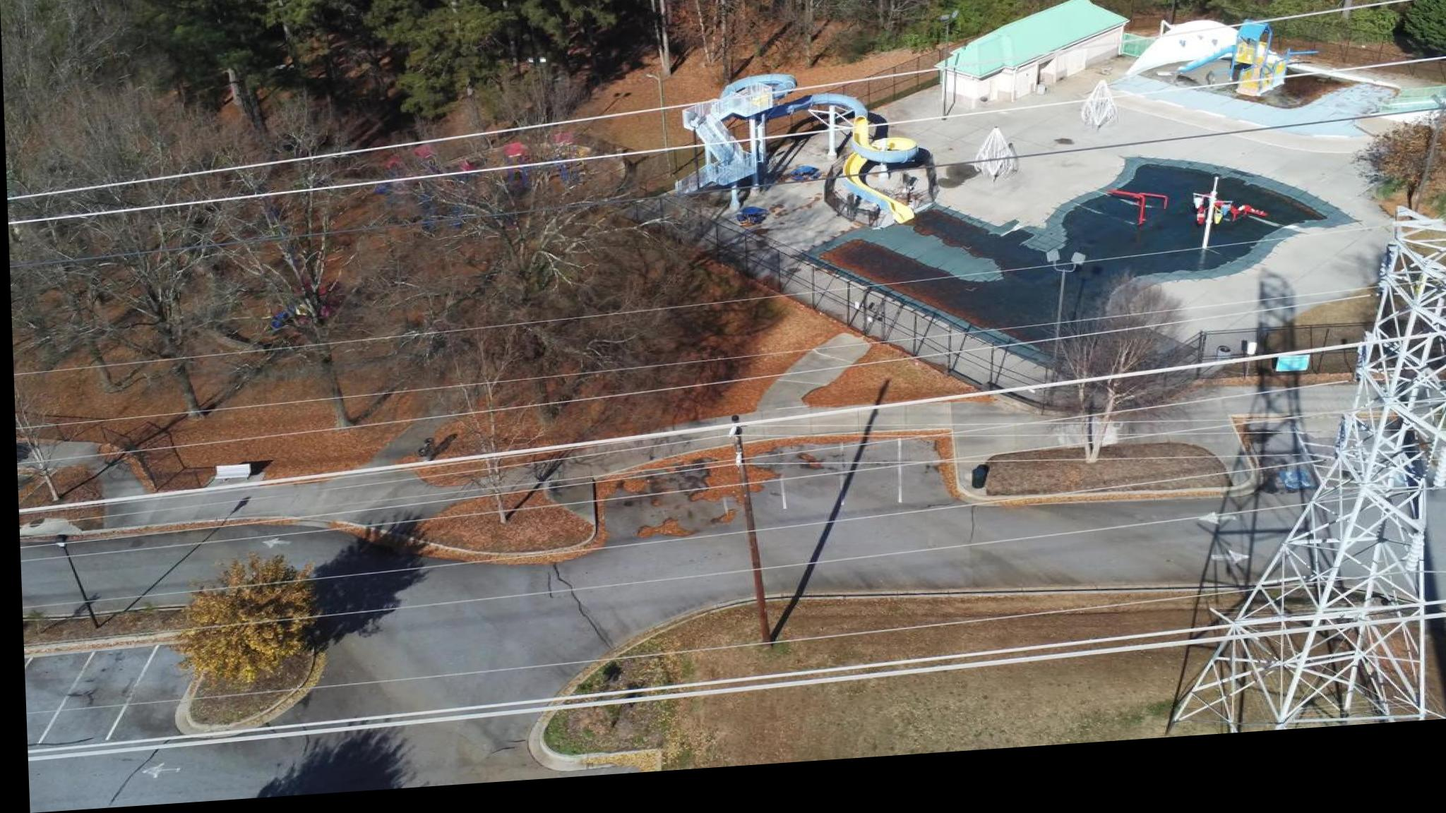tower: (1150, 201, 1446, 737)
